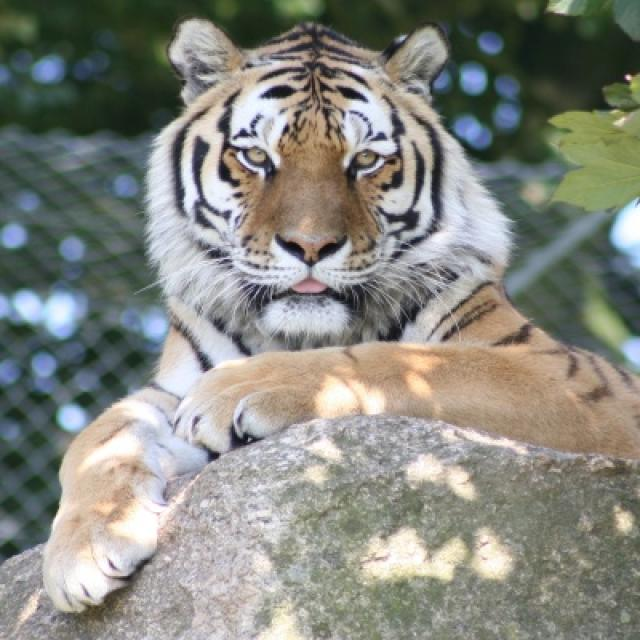Tiger: (42, 280, 638, 611), (146, 19, 522, 398)
